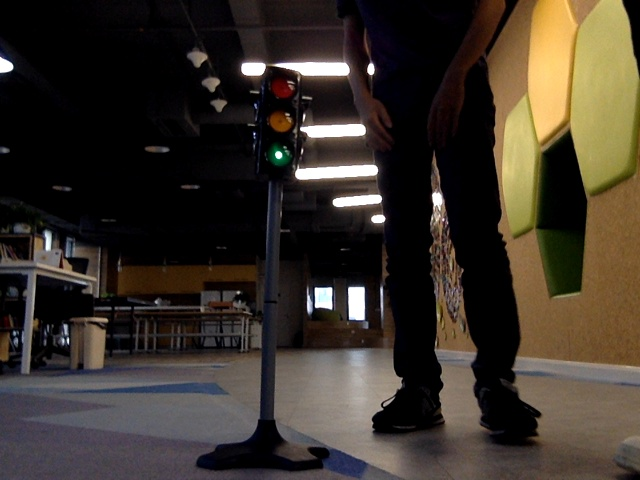green: (266, 73, 294, 169)
